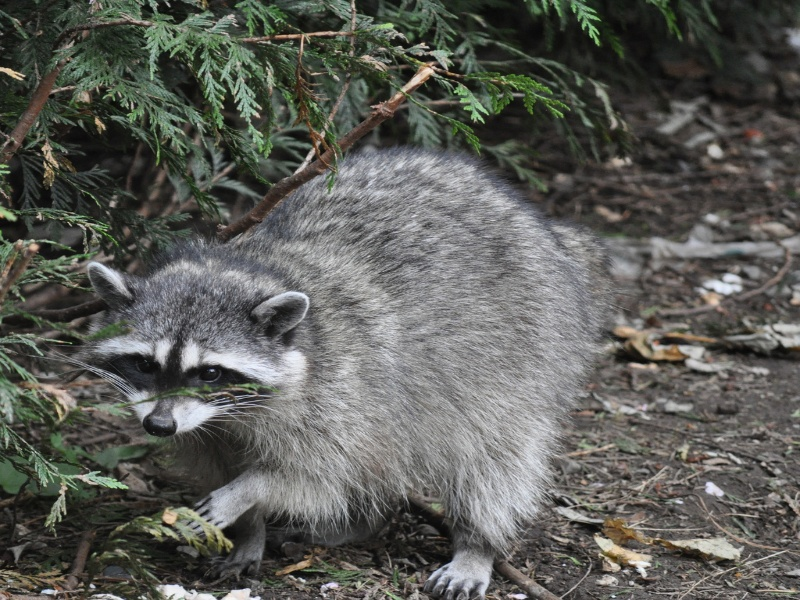raccoon: (74, 146, 611, 597)
